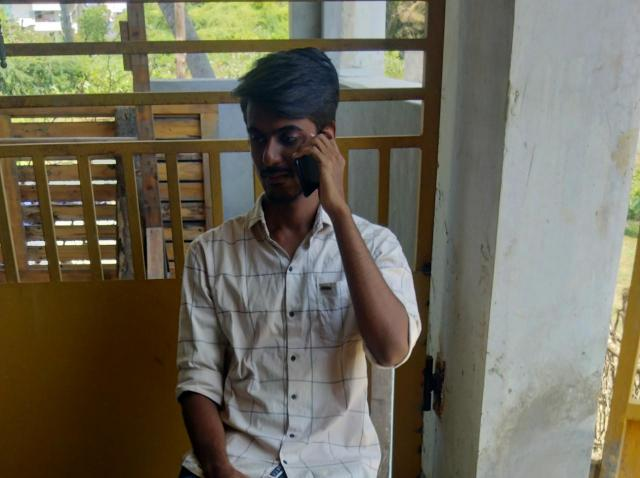Phone: (298, 138, 338, 194)
